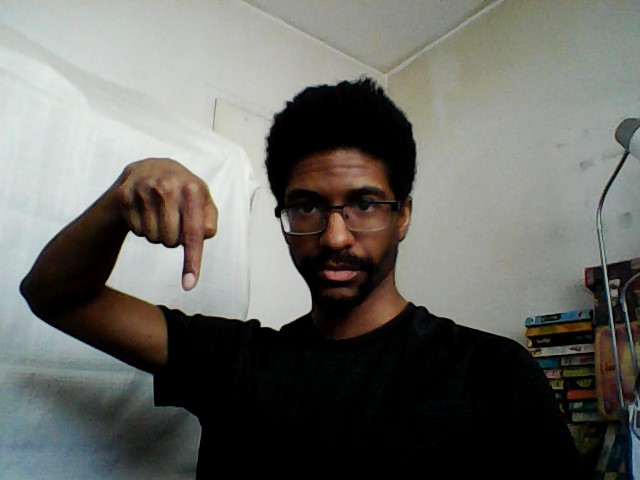q: (113, 153, 224, 296)
